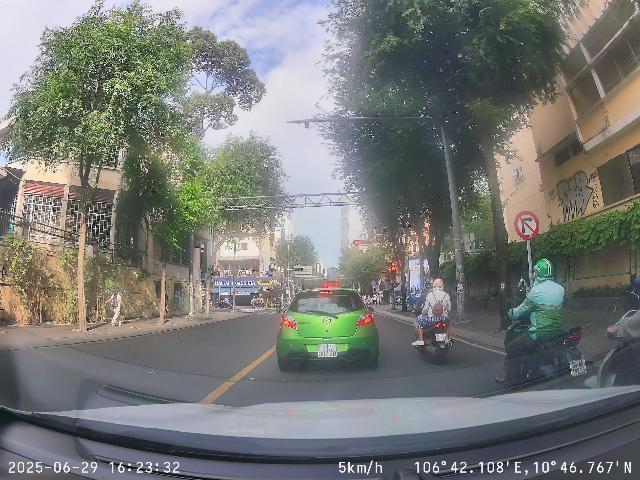123b-cam-re-phai: (514, 210, 540, 240)
